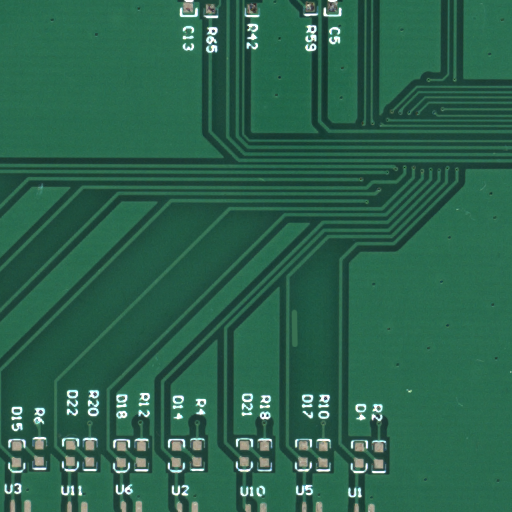Spurious_copper: (294, 328, 303, 368)
